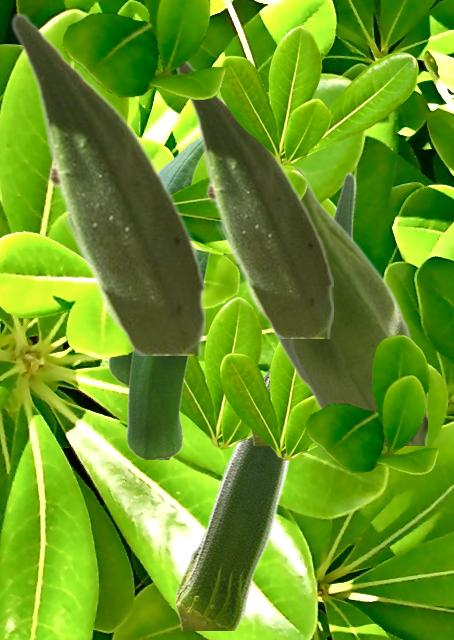okra: (10, 11, 204, 354), (175, 60, 332, 337), (275, 165, 426, 444), (248, 171, 355, 444), (107, 137, 202, 384), (174, 438, 292, 629), (125, 251, 210, 458)
